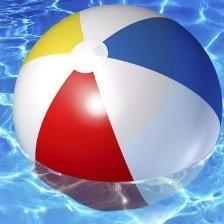Sports-Ball: (14, 5, 224, 186)
